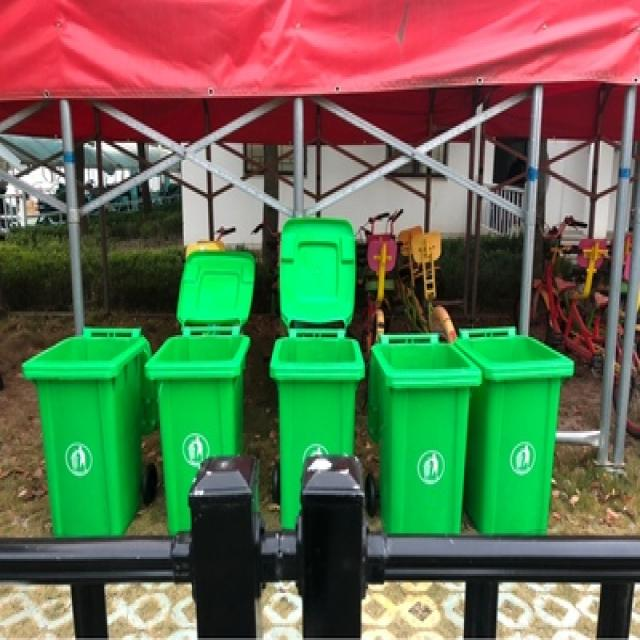ash bin: (144, 247, 256, 527), (267, 215, 365, 527), (21, 326, 149, 540), (454, 324, 572, 531), (368, 328, 480, 534)
bicycle: (351, 201, 402, 337)
pole: (510, 81, 544, 335), (56, 96, 82, 331)
